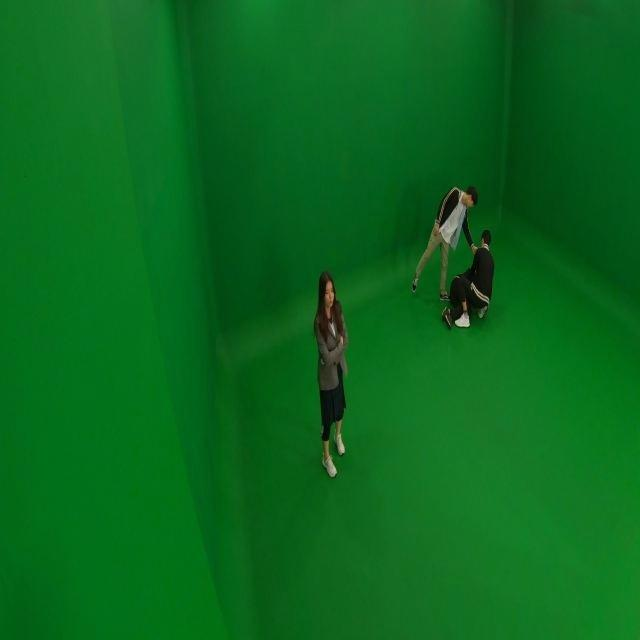fight: (411, 184, 493, 328)
non-fight: (314, 273, 348, 473)
